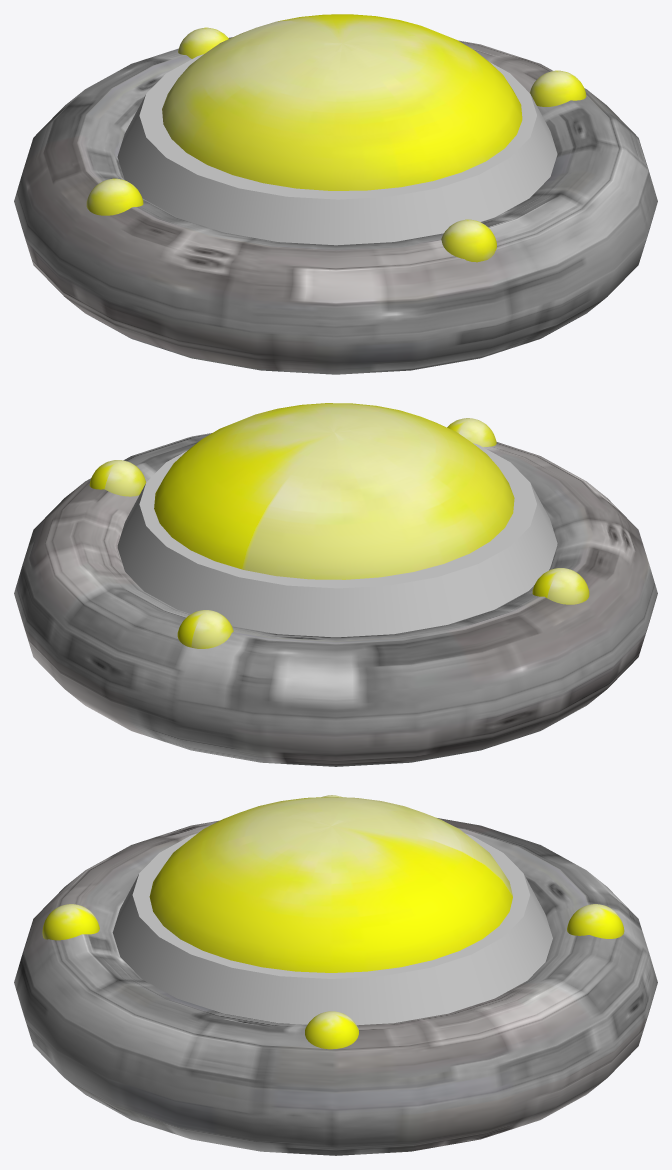
Rendered from ship.FBX.
3 renders of one model, top to bottom at view 1: azimuth 30°, elevation 25°; view 2: azimuth 150°, elevation 25°; view 3: azimuth 270°, elevation 25°, orthographic.
Parts seen in each view (by area): view 1: Torus01, Sphere01, Cone01, Sphere03, Sphere05, Sphere04, Sphere02; view 2: Torus01, Sphere01, Cone01, Sphere02, Sphere05, Sphere04, Sphere03; view 3: Torus01, Sphere01, Cone01, Sphere04, Sphere03, Sphere02.
Part boxes in pixels (x1,y1,x2,y2): Torus01: [14, 37, 657, 374]; Sphere01: [162, 14, 522, 190]; Cone01: [117, 54, 557, 245]; Sphere03: [441, 219, 496, 262]; Sphere05: [86, 178, 143, 215]; Sphere04: [530, 70, 586, 106]; Sphere02: [178, 27, 228, 58]; Torus01: [14, 433, 657, 766]; Sphere01: [154, 403, 514, 579]; Cone01: [117, 443, 557, 637]; Sphere02: [177, 610, 233, 648]; Sphere05: [532, 568, 589, 604]; Sphere04: [89, 460, 146, 496]; Sphere03: [447, 418, 496, 447]; Torus01: [14, 818, 657, 1155]; Sphere01: [149, 797, 512, 972]; Cone01: [112, 833, 552, 1025]; Sphere04: [305, 1011, 358, 1049]; Sphere03: [42, 904, 99, 940]; Sphere02: [567, 904, 624, 938].
Size of the model in its own units: 25.9 by 9.64 by 25.9.
